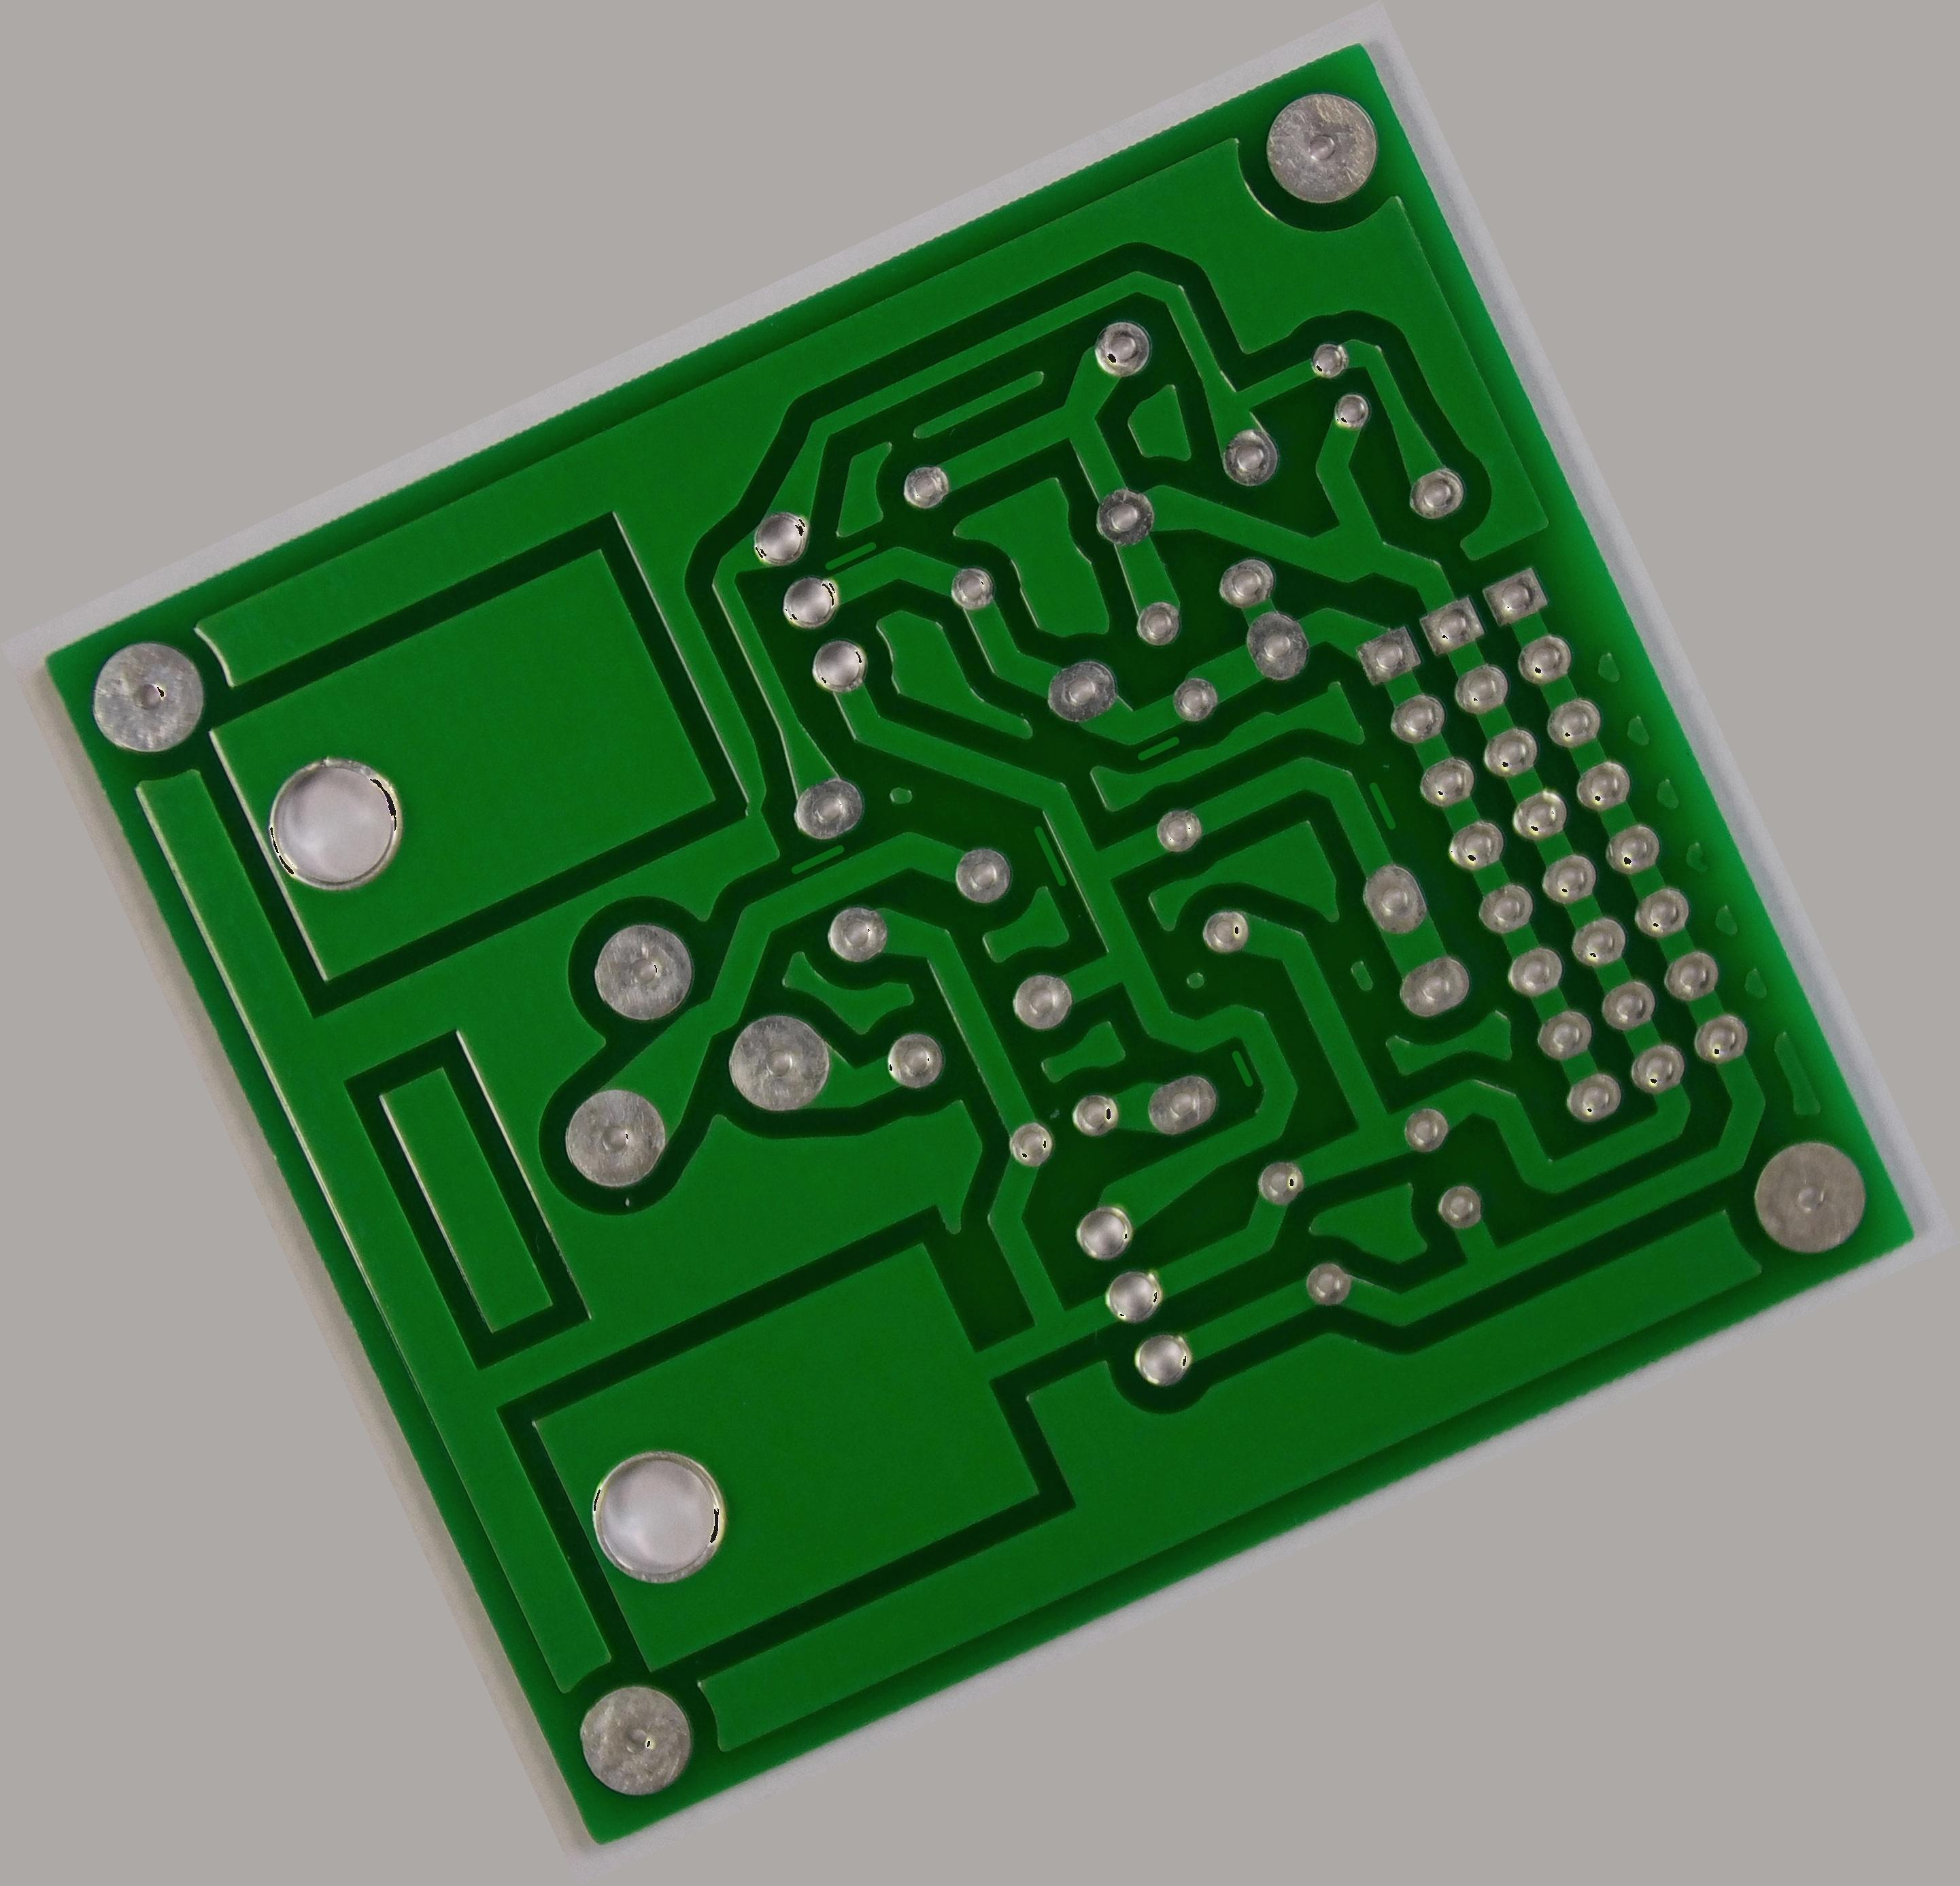spurious_copper: (1013, 810, 1080, 899), (781, 828, 857, 889), (815, 527, 885, 583), (1353, 768, 1405, 840), (1213, 1034, 1267, 1099), (1123, 721, 1188, 773)
